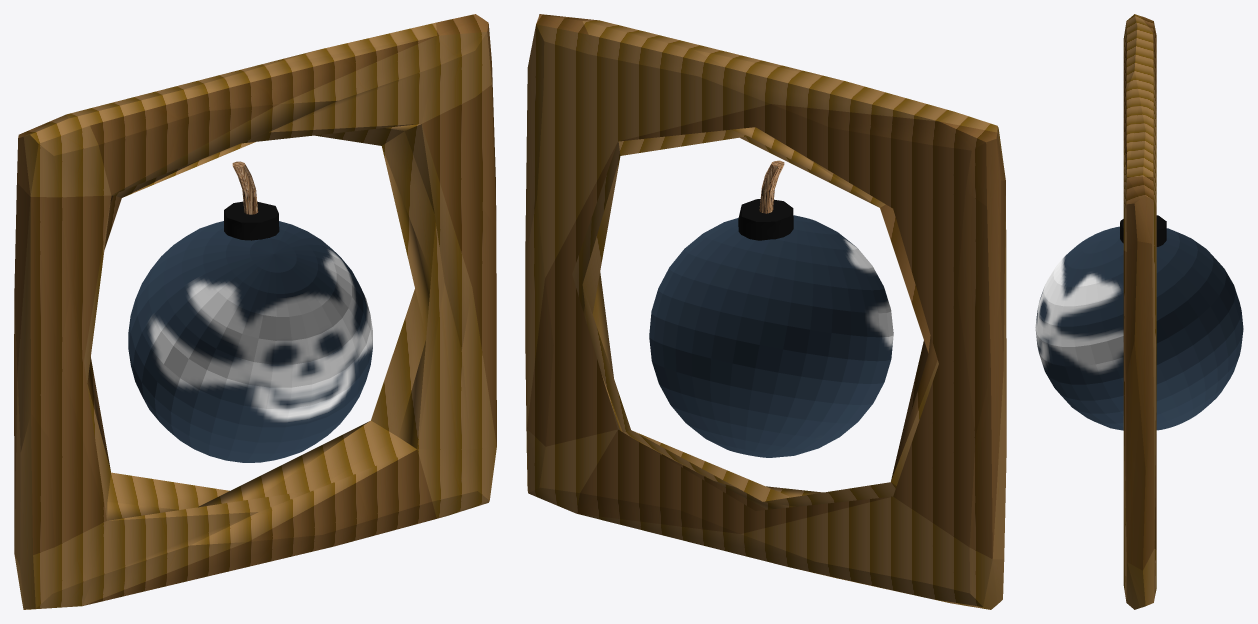
File: bonus_deadBomb.FBX
3 views of the same model, side by side, from view 1: azimuth 30°, elevation 25°; view 2: azimuth 150°, elevation 25°; view 3: azimuth 270°, elevation 25° (orthographic). The views are drawn at different scales.
Parts seen in each view (by area): view 1: elipse; view 2: elipse; view 3: elipse.
Part boxes in pixels (<box>): elipse: <box>14,14,496,609</box>; elipse: <box>525,14,1006,609</box>; elipse: <box>1035,14,1243,609</box>.
Bounding box in the file's own units: 50.36 × 49.99 × 22.52.
5 materials, 4 textured.
